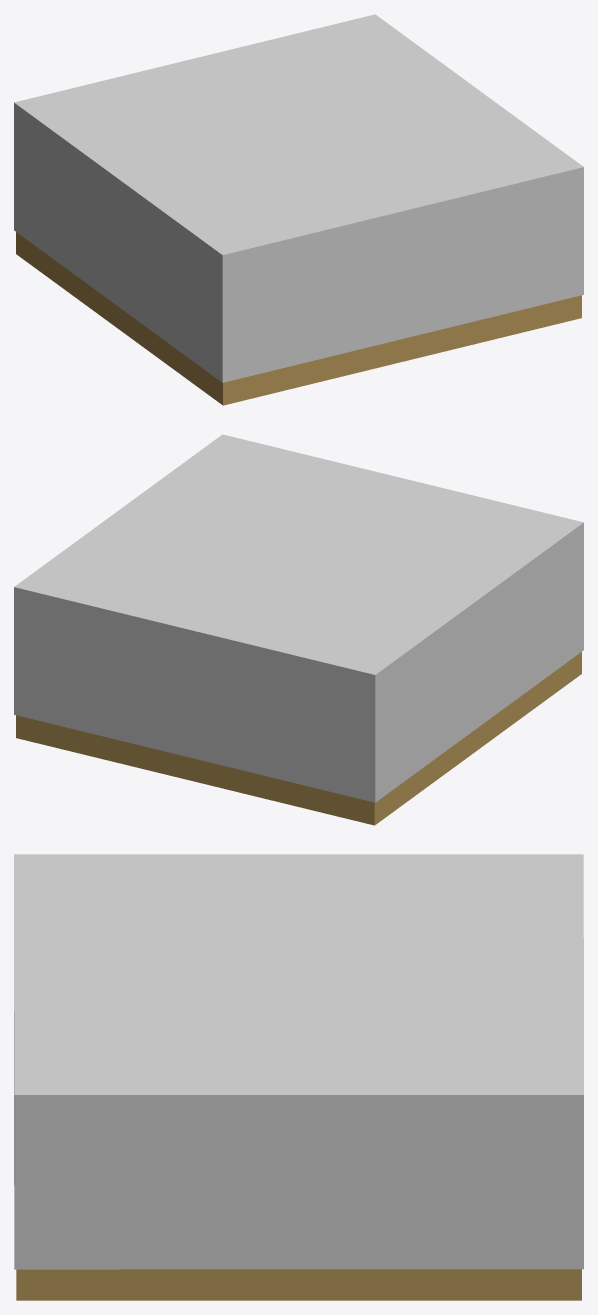
File: gallery_0.glb
The picture shows the model from 3 angles, top to bottom: view 1: azimuth 30°, elevation 25°; view 2: azimuth 150°, elevation 25°; view 3: azimuth 270°, elevation 25°; orthographic projection. The views are drawn at different scales.
Parts seen in each view (by area): view 1: Cube; view 2: Cube; view 3: Cube.
Boxes of the visible parts, x1,y1,x2,y2 form: Cube: [14, 14, 583, 405]; Cube: [14, 434, 583, 825]; Cube: [14, 854, 583, 1300].
Bounding box in the file's own units: 10 × 4 × 10.
